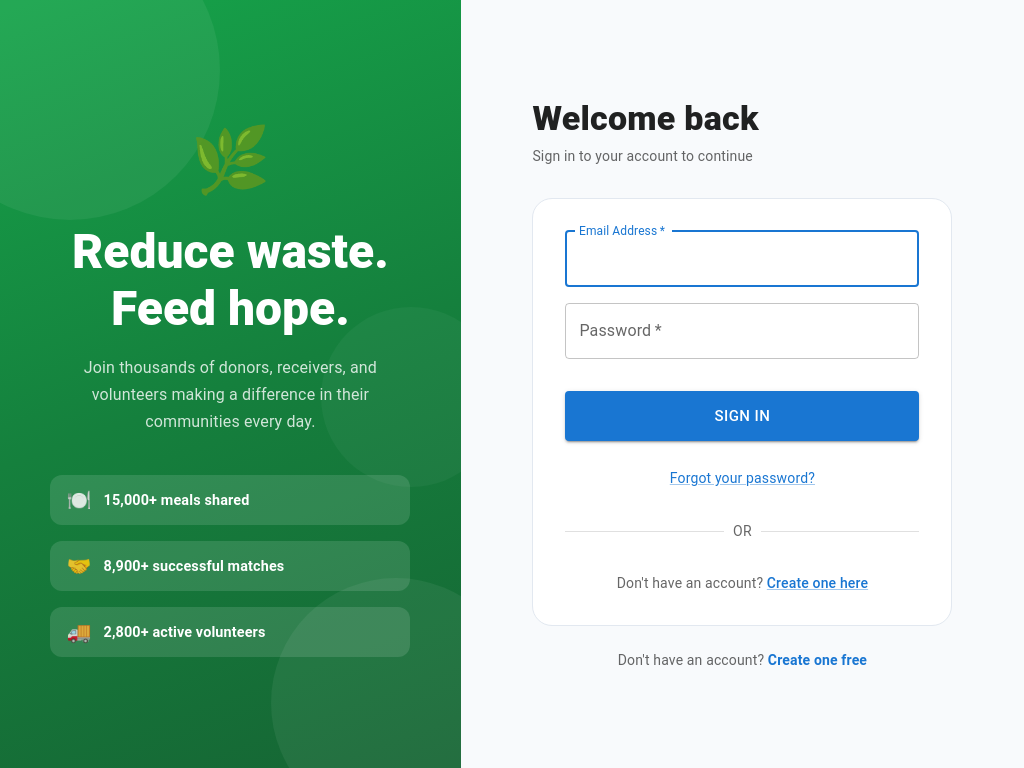
Test case: Authentication Flow Integration Tests › Login Flow › should reject login for pending verification users
Note: Fill login form
Step 1. Type "pending@example.com" into the field labelled "Email Address *" → (742, 259), box 565,231 -> 919,287
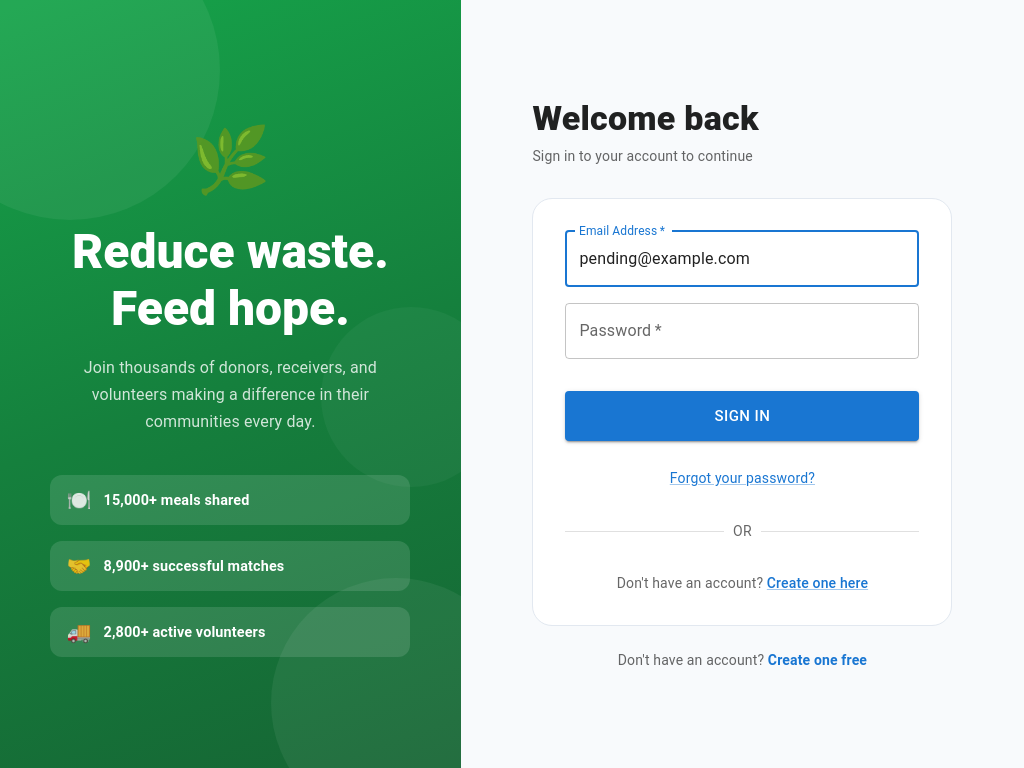
Step 2. Type "SecurePass123!" into the password field labelled "Password *" → (742, 331), box 565,303 -> 919,359
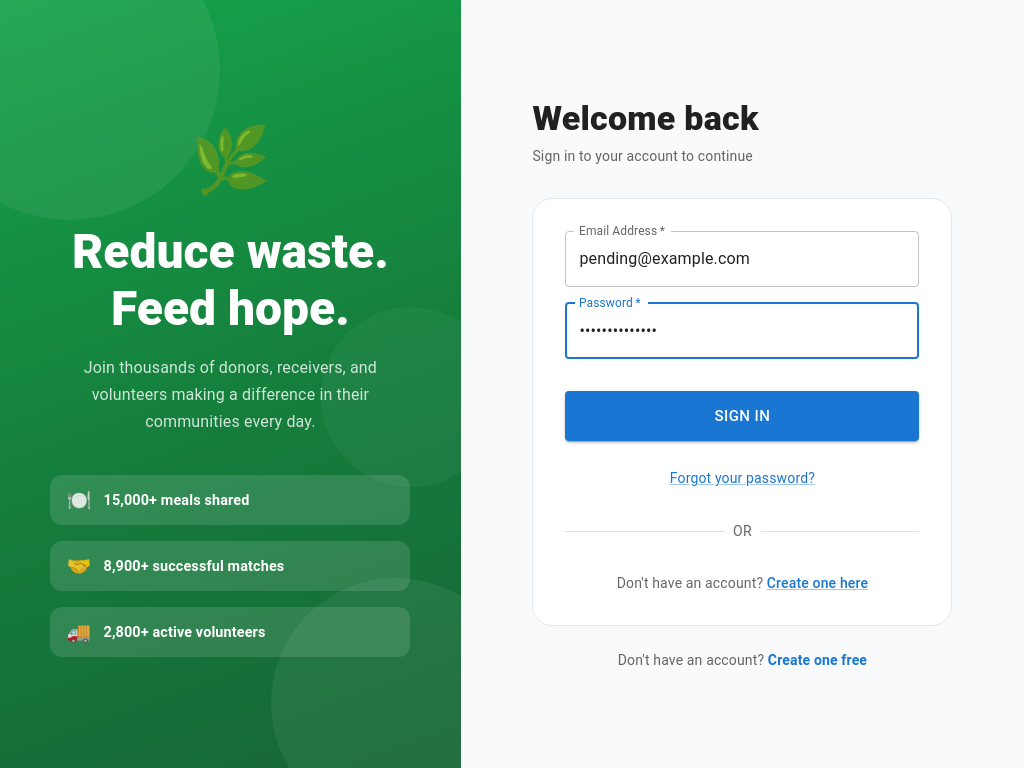
Note: Submit login
Step 3. Click the button "Sign In" → click(742, 416), box 565,391 -> 919,441
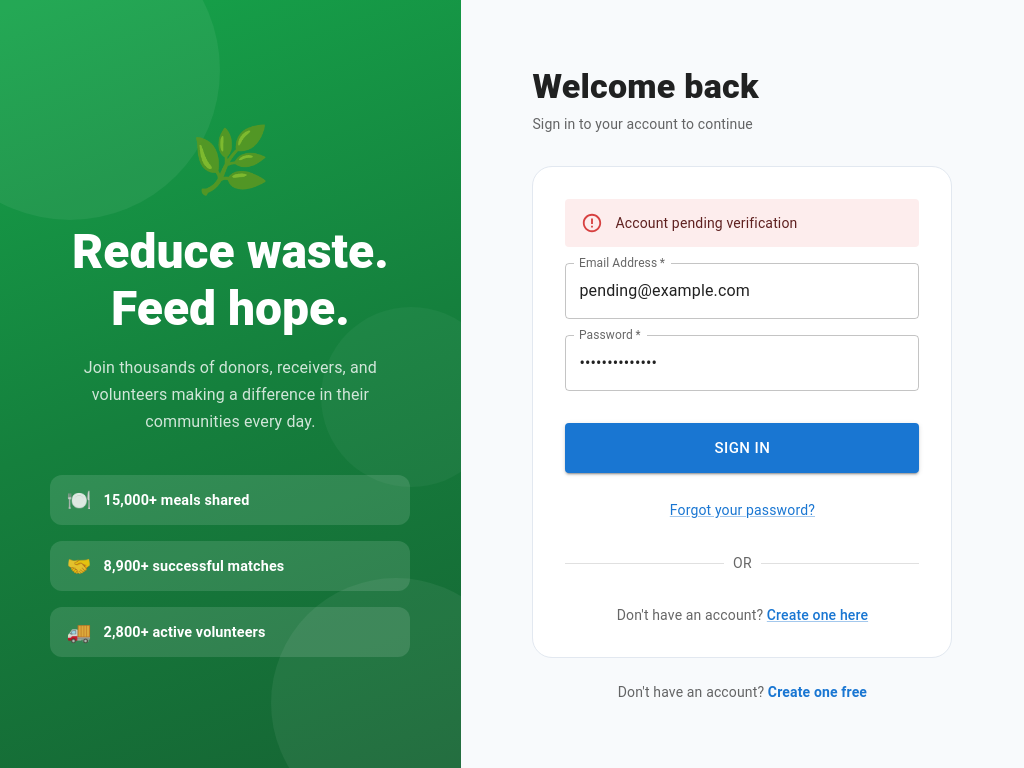
Now the text "Account pending verification" is shown, box 615,215 -> 797,231
